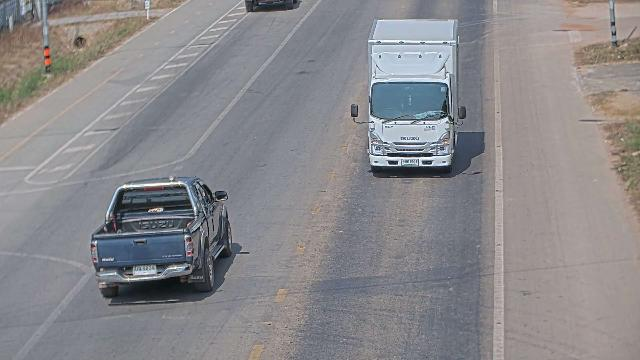pickup-truck: (89, 175, 233, 297)
truck: (342, 13, 471, 180)
